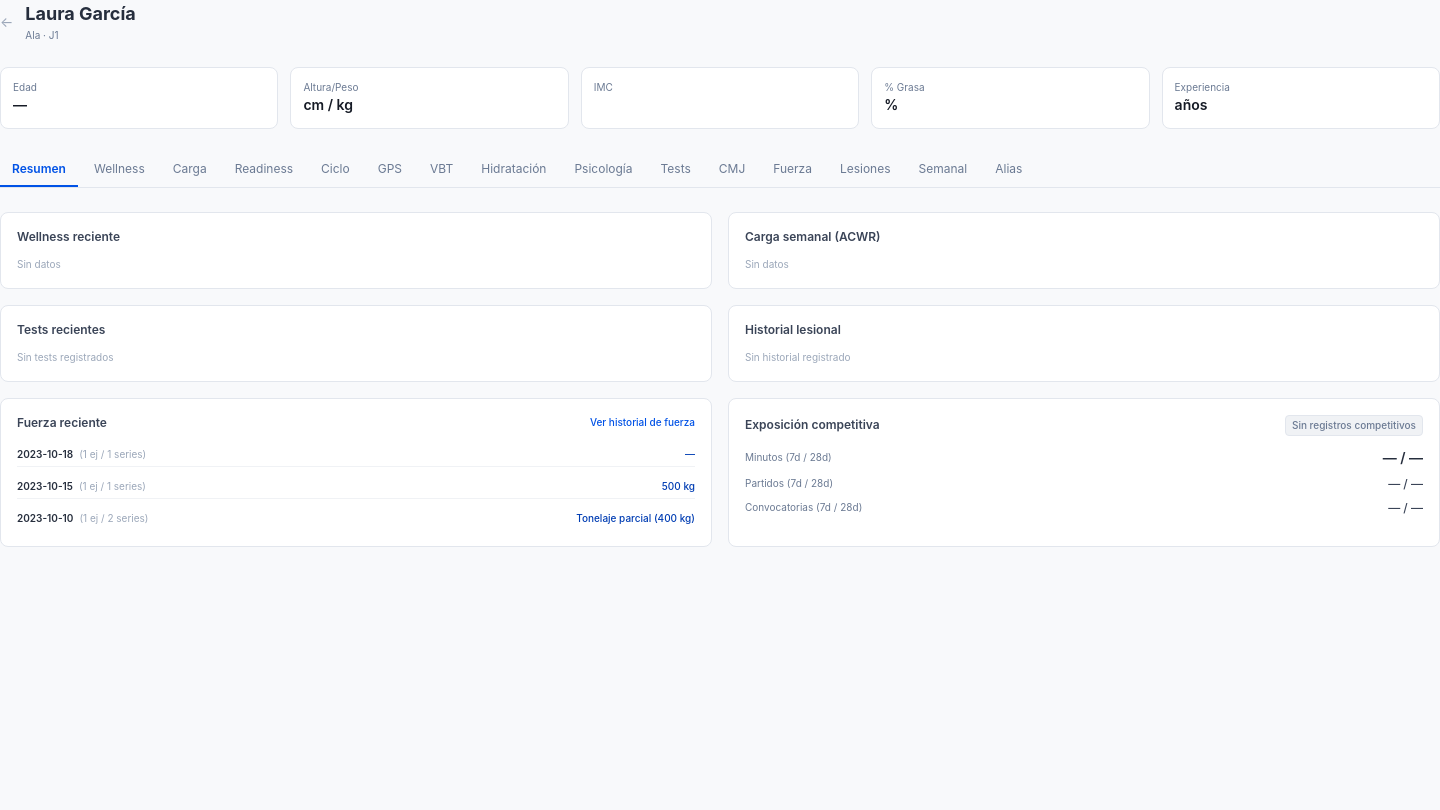
PlayerProfilePage (Pestaña e Historial de Fuerza) › 18. Ver detalle abre la sesión correcta en modo solo lectura y no altera la consulta
The width and height of the screenshot is (1440, 810).
Click the button "Fuerza" at (793, 170), box top-left (761, 152), bottom-right (824, 186)
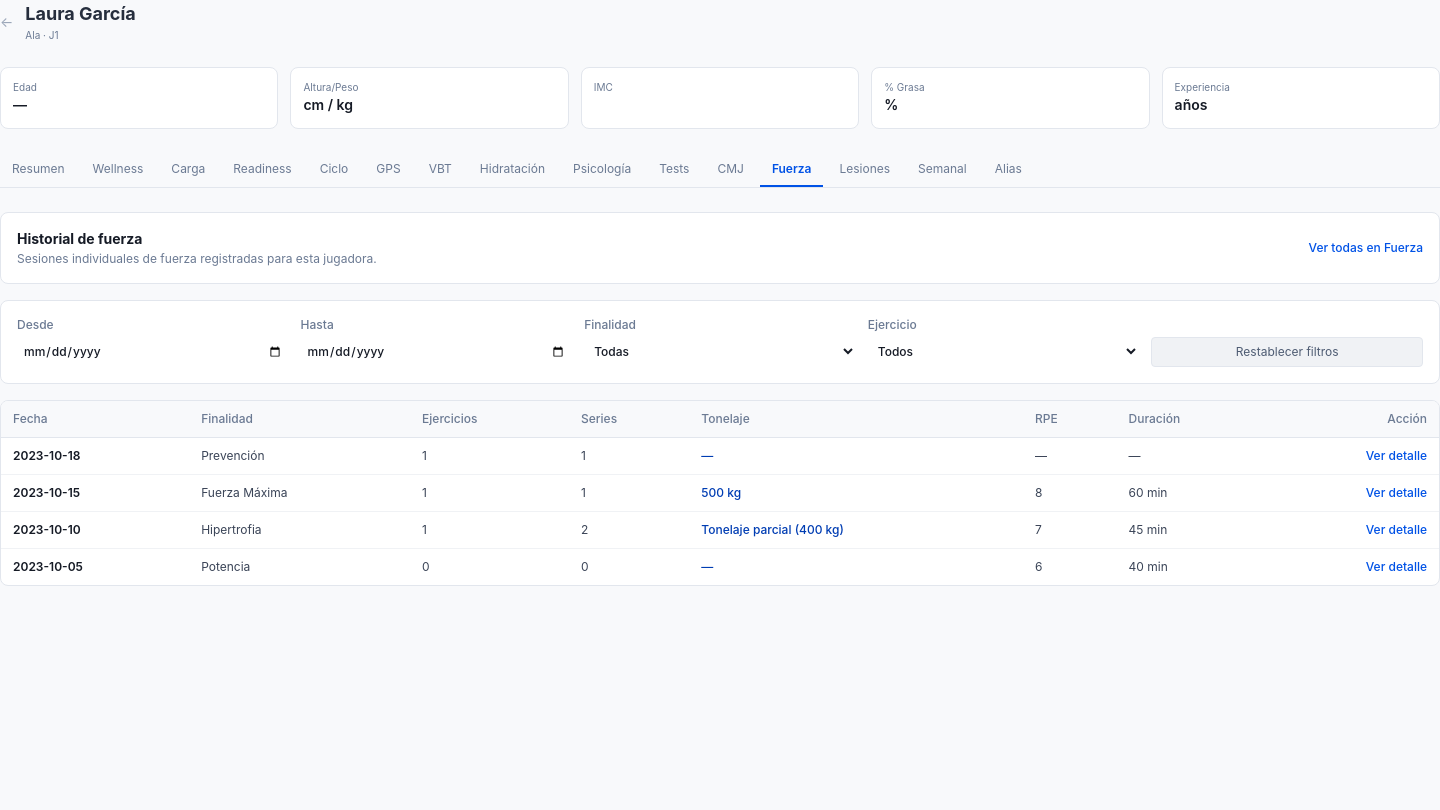
// Click Ver detalle en la sesión sf1
Click the button "Ver detalle" in the row of "2023-10-15" at (1396, 492), box top-left (1366, 484), bottom-right (1427, 500)
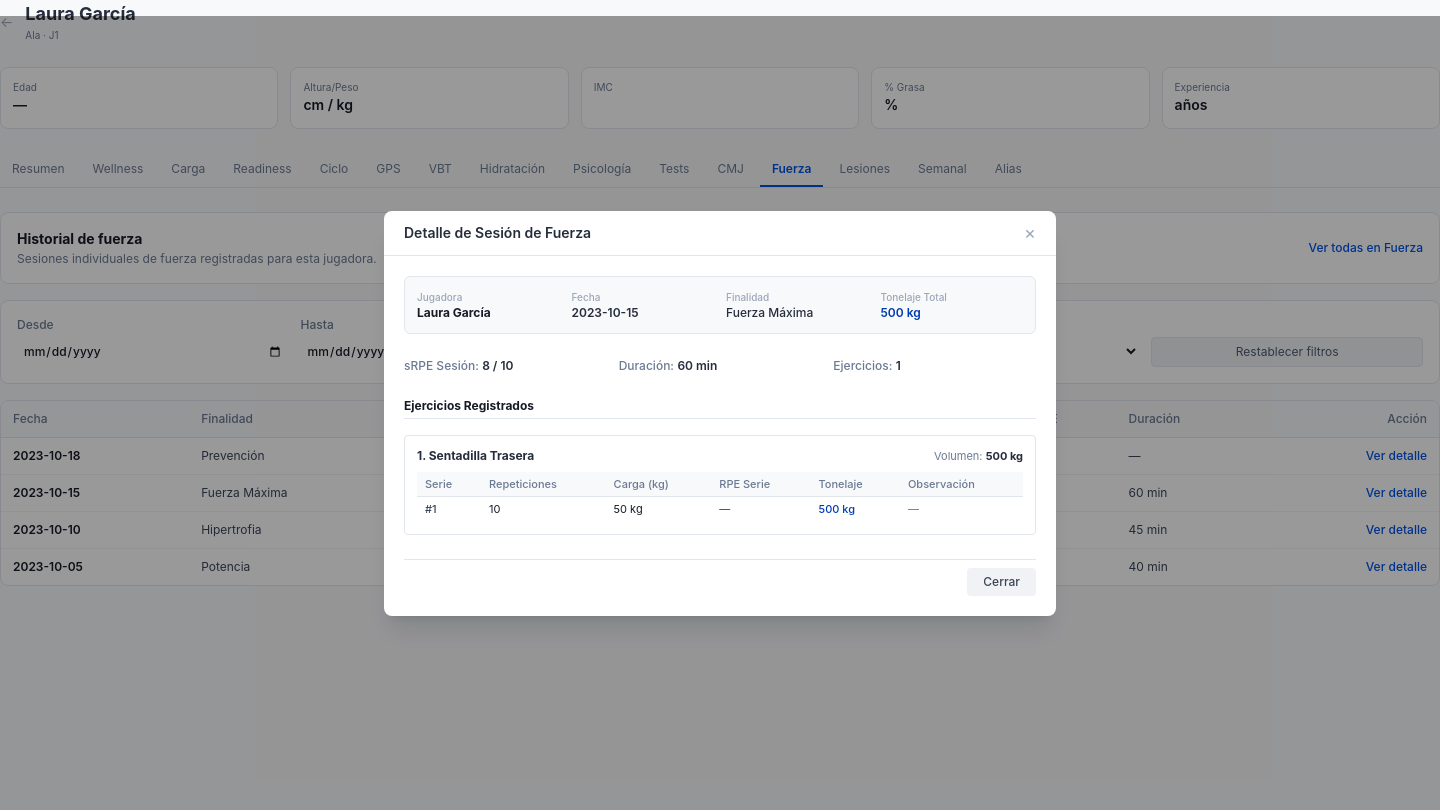
Now the heading "Detalle de Sesión de Fuerza" is shown, box top-left (404, 222), bottom-right (591, 242)
// Cierre correcto
Click the button "Cerrar" at (1002, 582), box top-left (967, 568), bottom-right (1036, 596)
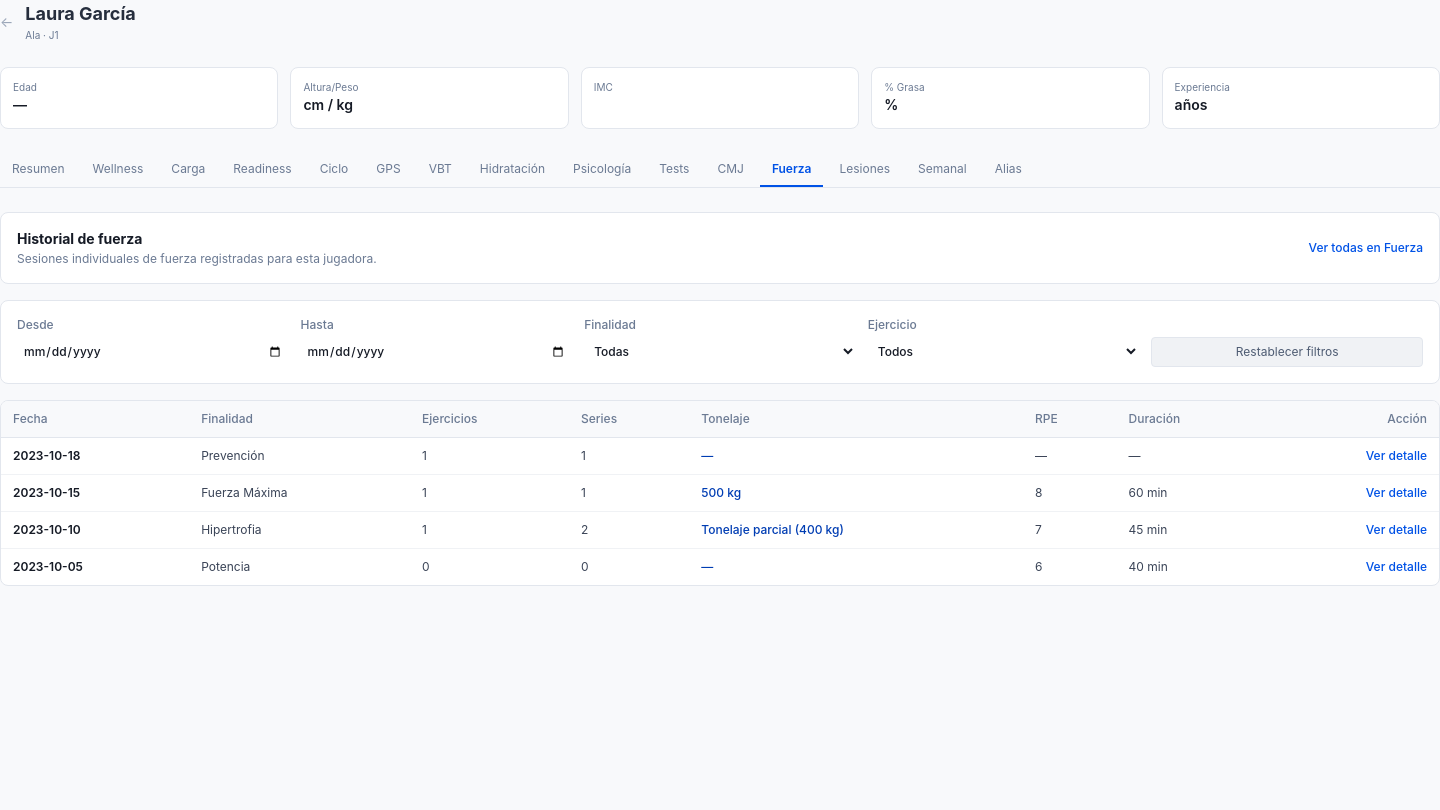
Expected: the text "2023-10-15" is shown, top-left (1, 474), bottom-right (189, 511)
Now the heading "Detalle de Sesión de Fuerza" is gone
